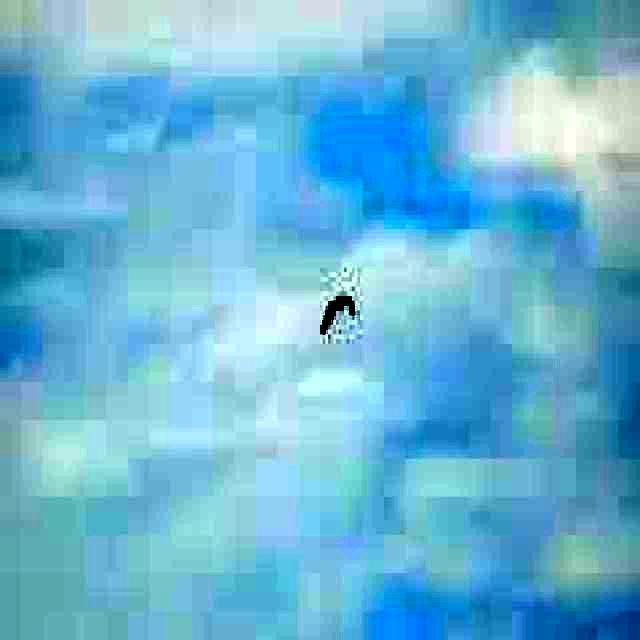bird: (318, 279, 359, 346)
